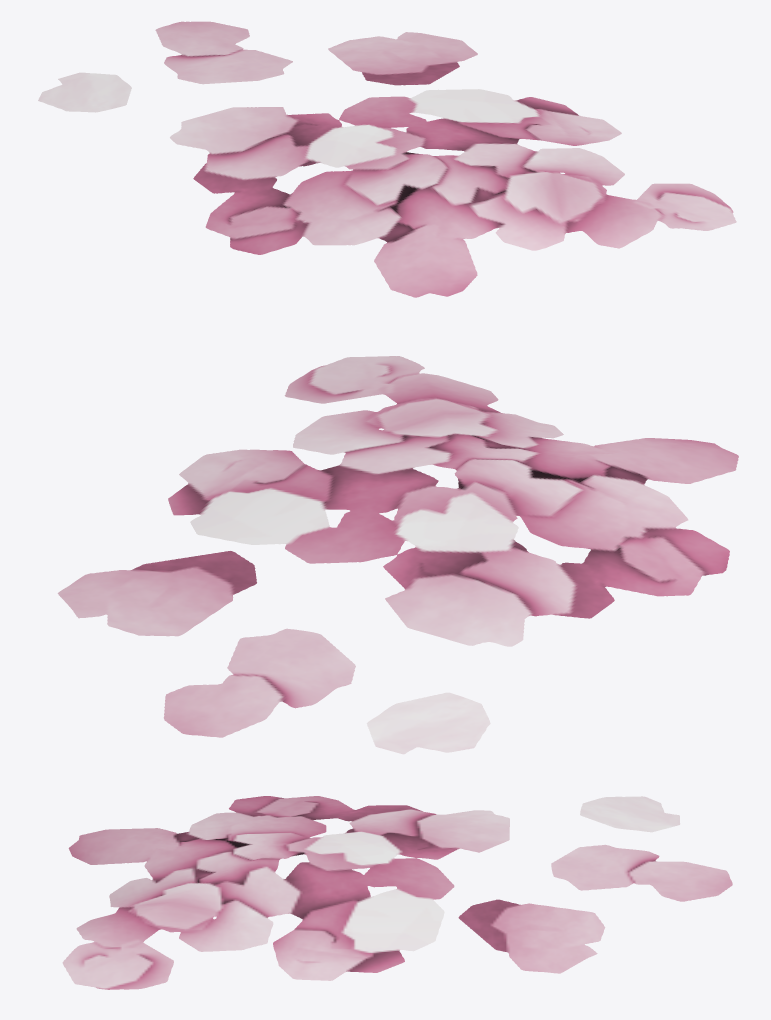
Rendered from SM_Env_CherryBlossom_Small_03.fbx.
3 renders of one model, top to bottom at view 1: azimuth 30°, elevation 25°; view 2: azimuth 150°, elevation 25°; view 3: azimuth 270°, elevation 25°, orthographic. The views are drawn at different scales.
Visible parts, largest first — view 1: SM_Env_CherryBlossom_Small_03; view 2: SM_Env_CherryBlossom_Small_03; view 3: SM_Env_CherryBlossom_Small_03.
Boxes of the visible parts, bbox=[...] form: SM_Env_CherryBlossom_Small_03: bbox=[38, 21, 736, 297]; SM_Env_CherryBlossom_Small_03: bbox=[57, 356, 738, 754]; SM_Env_CherryBlossom_Small_03: bbox=[62, 796, 732, 989].
Size of the model in its own units: 56.63 by 4.34 by 82.15.
